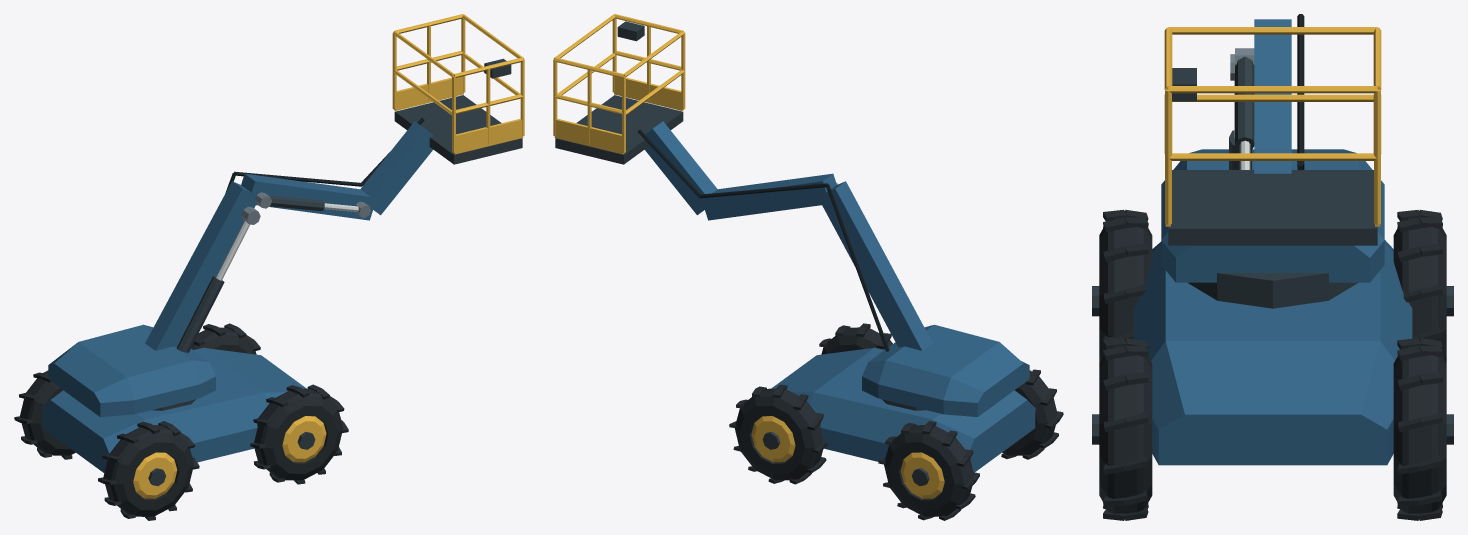
The model's file is b07_articulating_boom_lift.glb.
The picture shows the model from 3 angles, left to right: view 1: azimuth 30°, elevation 25°; view 2: azimuth 150°, elevation 25°; view 3: azimuth 270°, elevation 25°; orthographic projection. The views are drawn at different scales.
Parts seen in each view (by area): view 1: b07_articulating_boom_lift; view 2: b07_articulating_boom_lift; view 3: b07_articulating_boom_lift.
Part boxes in pixels (bbox=[...]): b07_articulating_boom_lift: bbox=[14, 14, 524, 520]; b07_articulating_boom_lift: bbox=[553, 14, 1063, 520]; b07_articulating_boom_lift: bbox=[1092, 14, 1453, 520].
Size of the model in its own units: 5.7 by 4.47 by 2.34.
